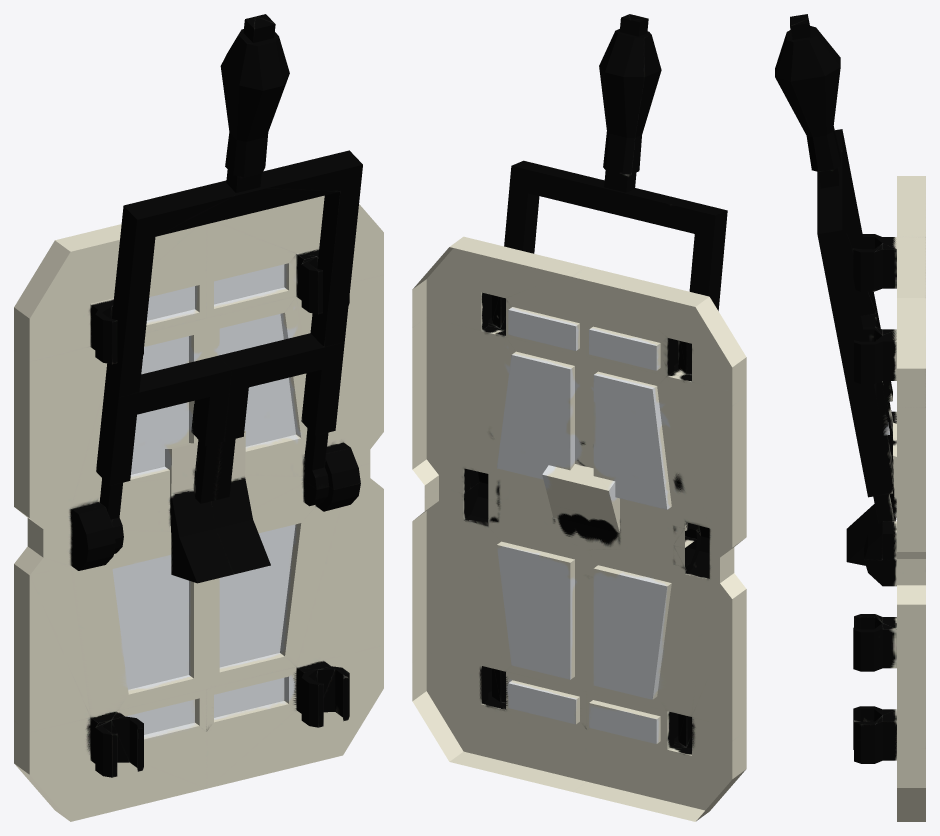
File: Switch.fbx
The picture shows the model from 3 angles, left to right: view 1: azimuth 30°, elevation 25°; view 2: azimuth 150°, elevation 25°; view 3: azimuth 270°, elevation 25°; orthographic projection. The views are drawn at different scales.
Parts seen in each view (by area): view 1: node_id4; view 2: node_id4; view 3: node_id4.
Boxes of the visible parts, x1,y1,x2,y2 form: node_id4: (14, 14, 383, 821); node_id4: (412, 14, 746, 821); node_id4: (775, 14, 925, 821).
Size of the model in its own units: 0.229 by 0.4992 by 0.0919.
1 material, 1 textured.
